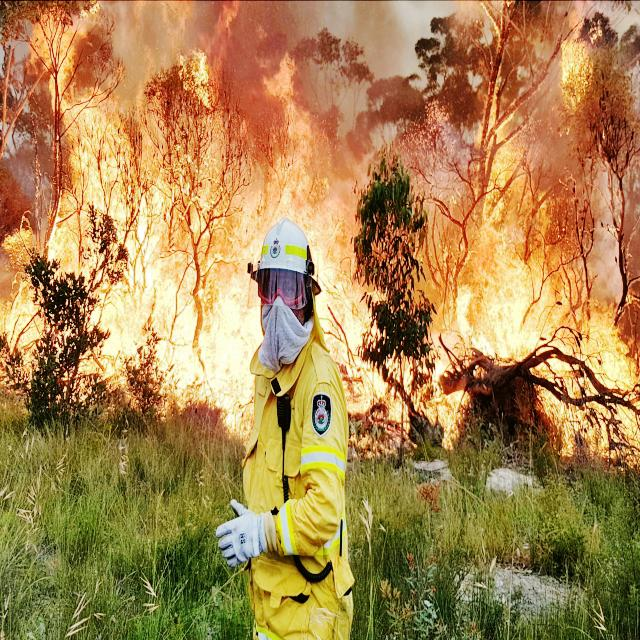api: (1, 1, 640, 451)
